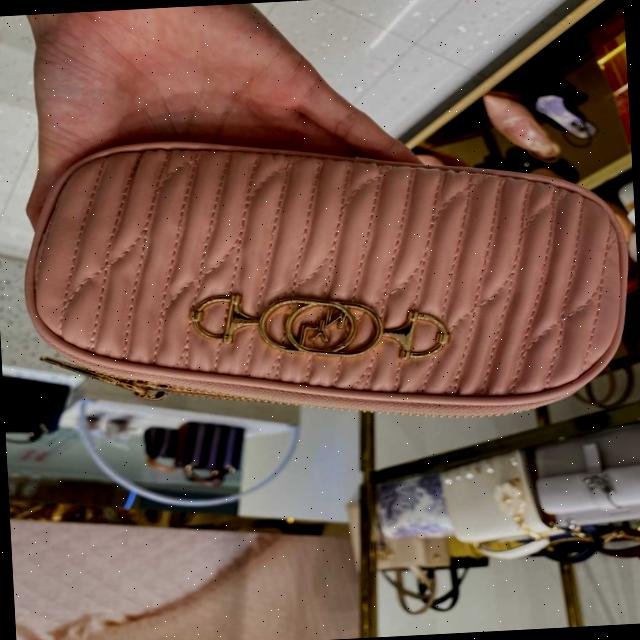Handbag: (16, 116, 636, 443)
